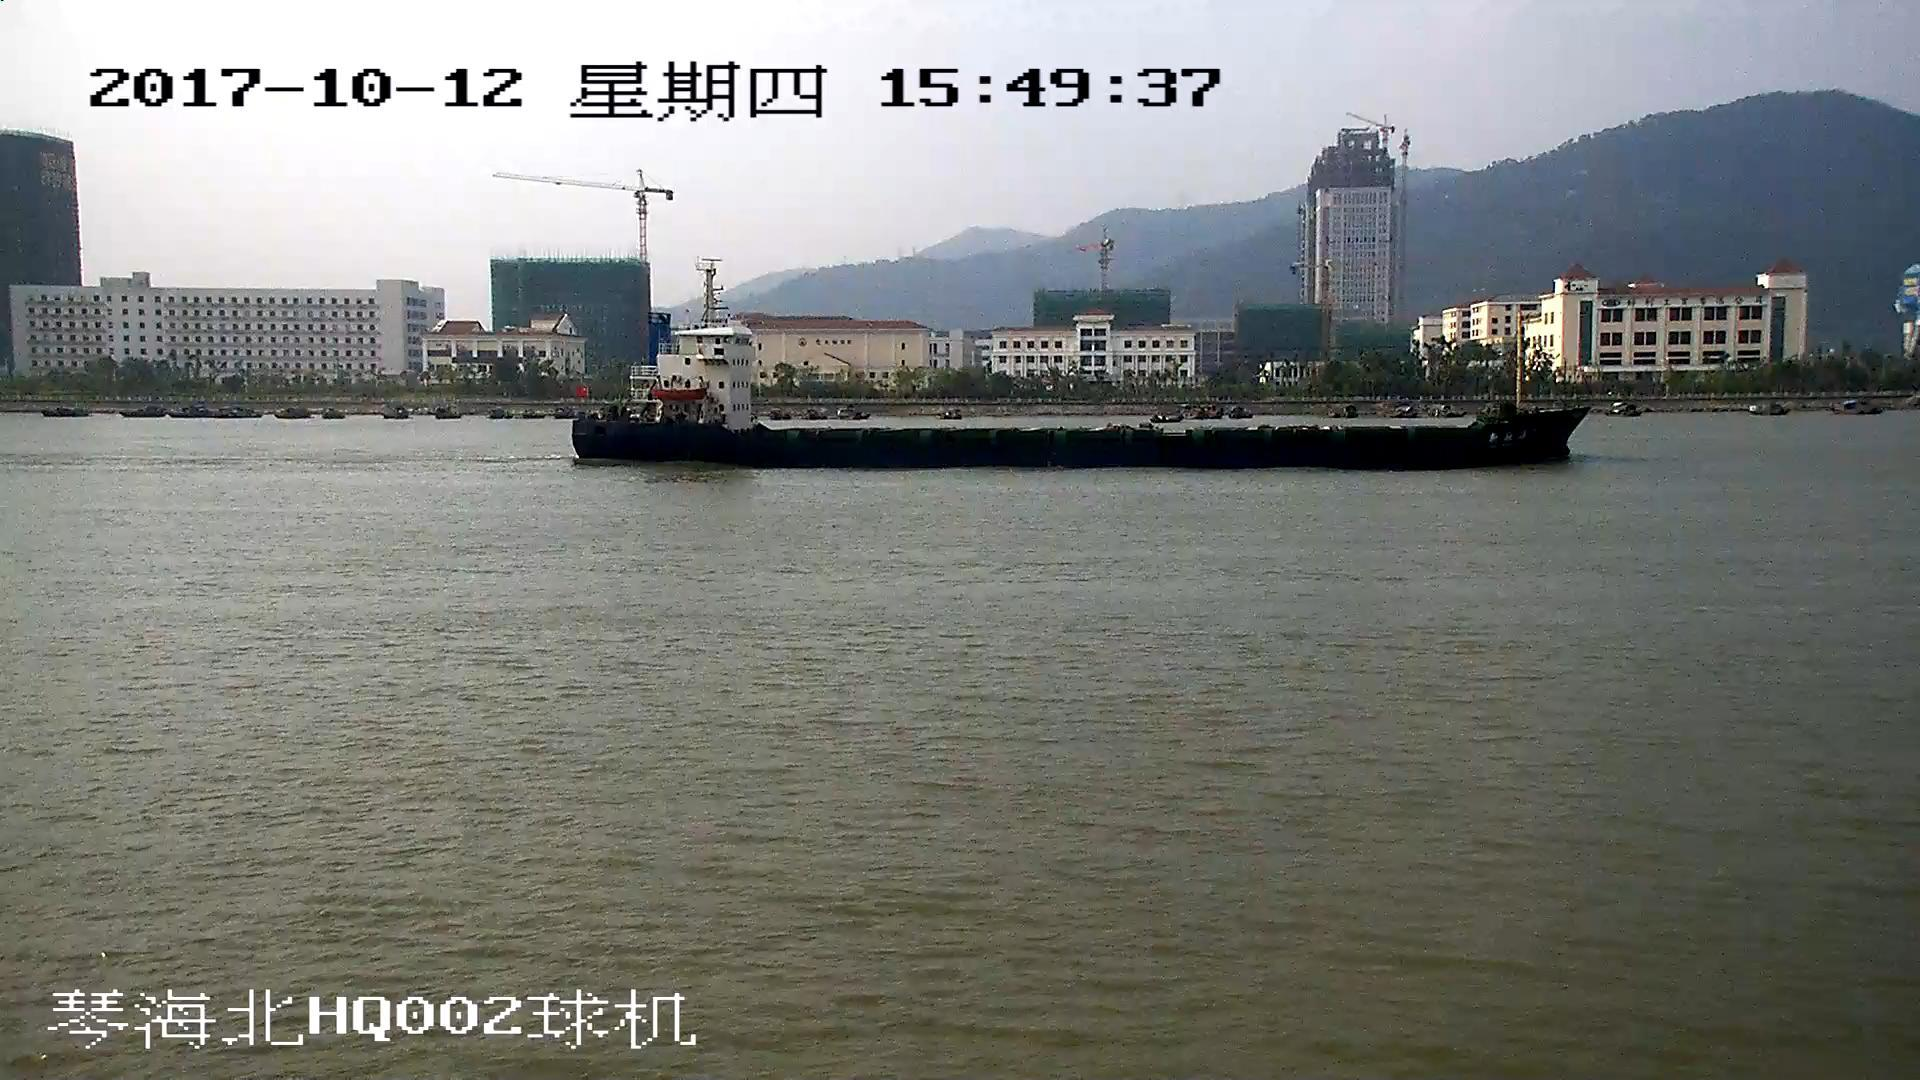Ship: (572, 264, 1586, 473)
